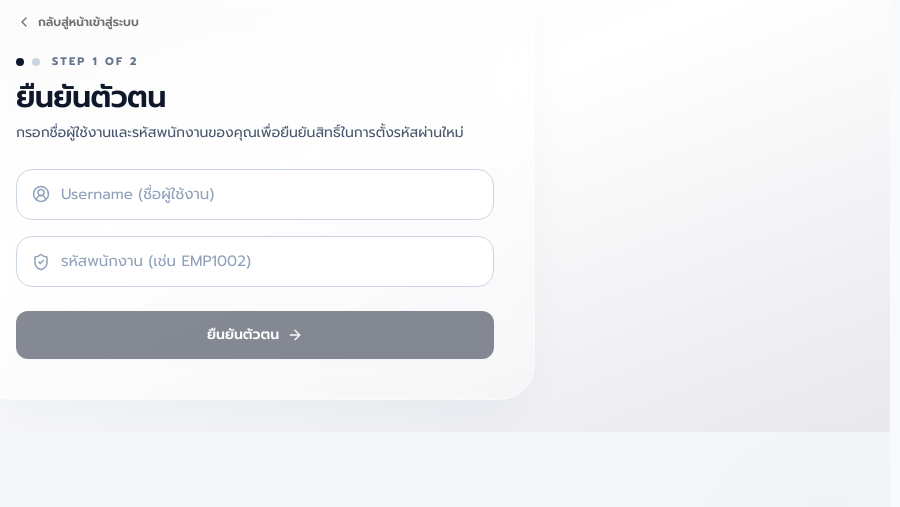
Scenario: ForgotPassword Component (Streamlined 2-Step Employee ID Flow) › handles rate limiting error and shows cooldown timer
Type "qsms_operator" into the field with placeholder "Username (ชื่อผู้ใช้งาน)" at (255, 194), box left=16, top=168, right=494, bottom=220
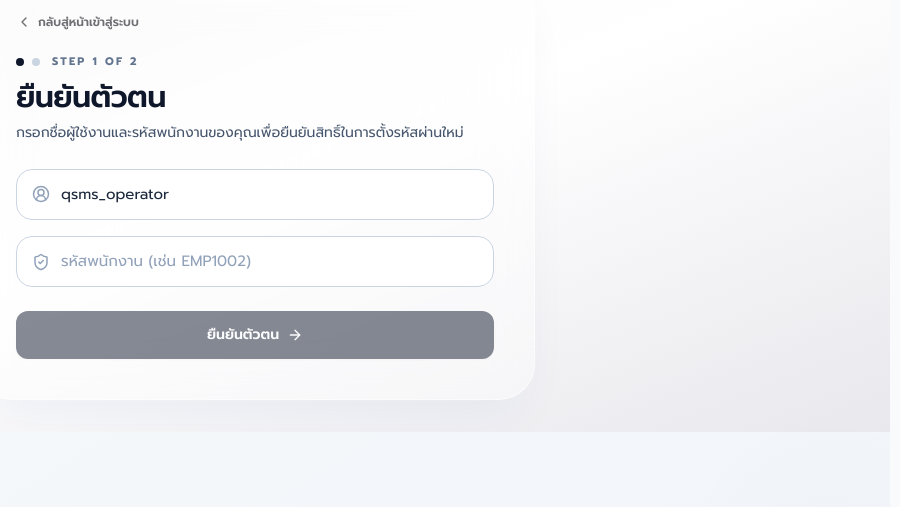
Type "EMP1002" into the field with placeholder "รหัสพนักงาน (เช่น EMP1002)" at (255, 262), box left=16, top=236, right=494, bottom=287
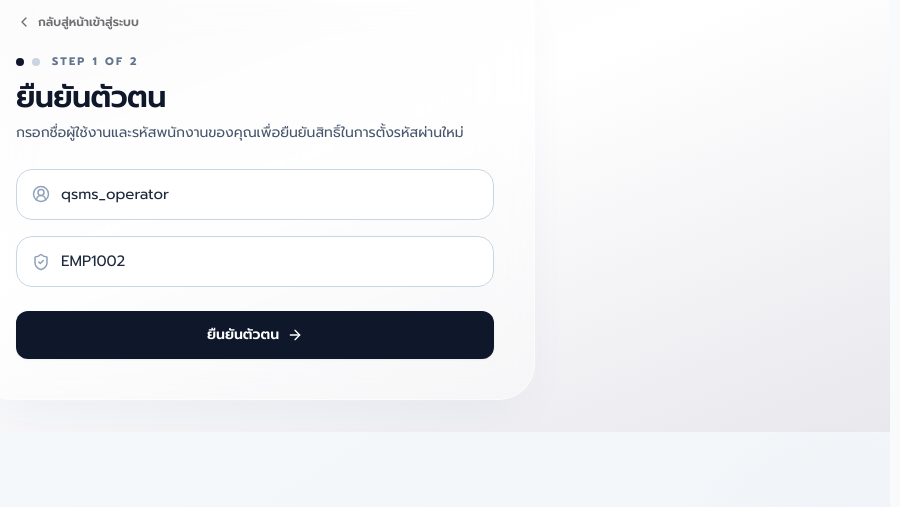
Click the button "ยืนยันตัวตน" at (255, 335), box left=16, top=311, right=494, bottom=359
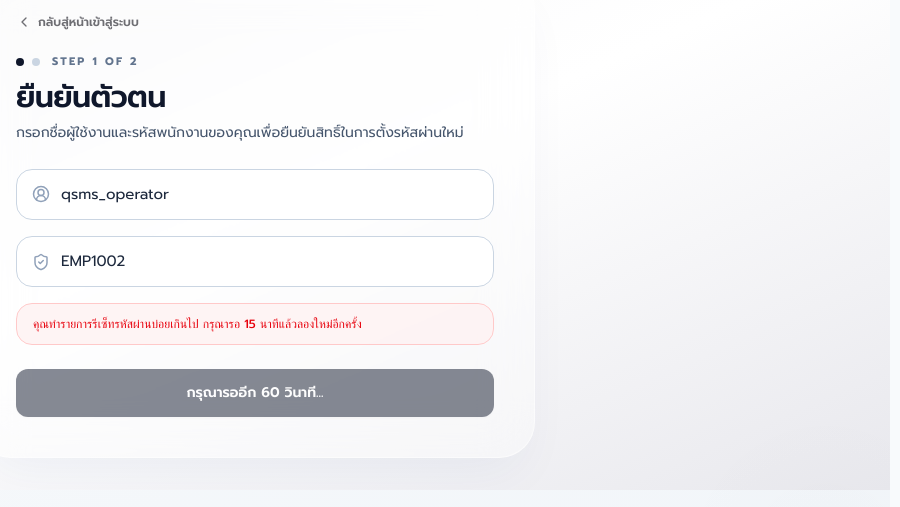
Now the text "คุณทำรายการรีเซ็ทรหัสผ่านบ่อยเกินไป" is shown, box left=33, top=315, right=362, bottom=333
Now the button "กรุณารออีก 60 วินาที..." is shown, box left=16, top=369, right=494, bottom=417
